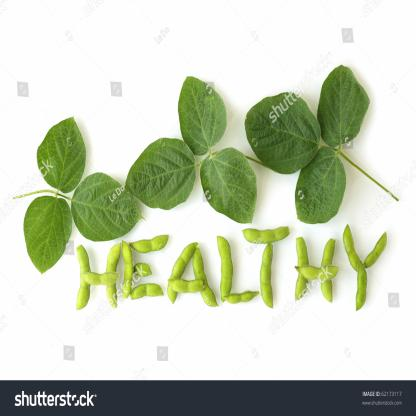Soybean leaf: (243, 93, 324, 173), (125, 130, 202, 212), (199, 144, 260, 230), (68, 172, 144, 241), (316, 63, 372, 155), (293, 141, 352, 227), (17, 193, 76, 277), (174, 72, 231, 157), (38, 110, 90, 195)
